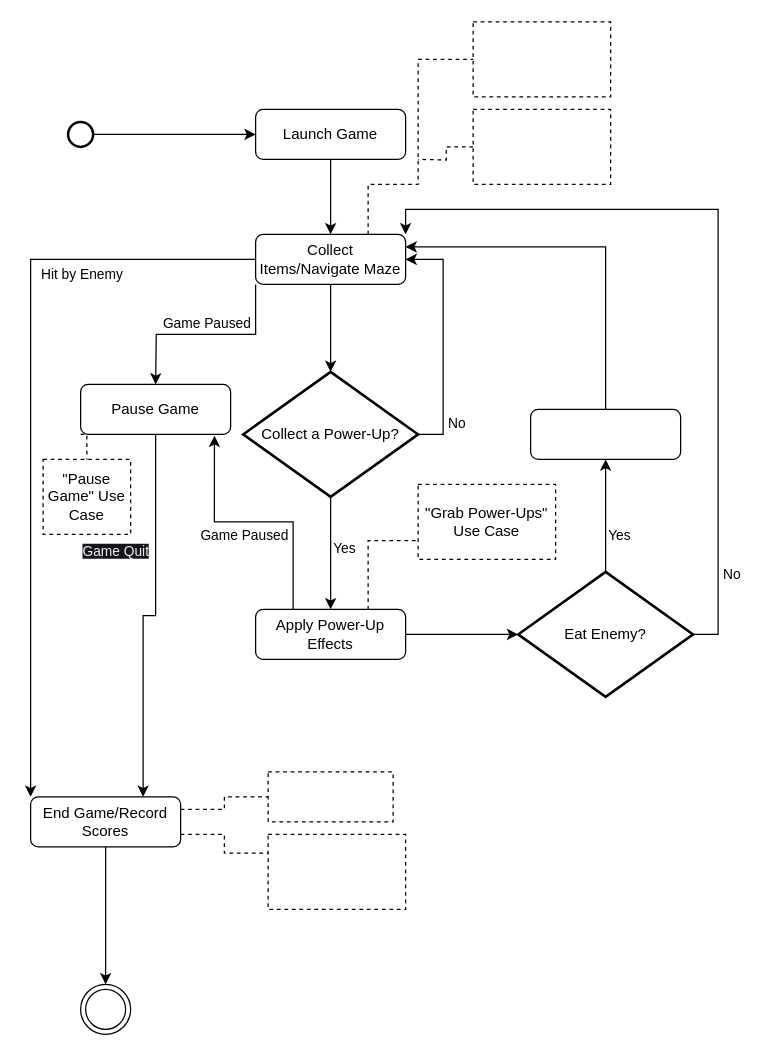
Image size: 761x1056. Some labels were removed from this diagram. Here are the shapes that lost their labels. From the top down, the centre of each, then its label:
the point at 541,59: "Navigate Through The Maze" Use Case
the point at 541,146: "Collect Items" Use Case
the point at 605,433: Lock Away Enemy
the point at 330,796: "End Game" Use Case
the point at 336,871: "Record High Scores from game session" Use Case
